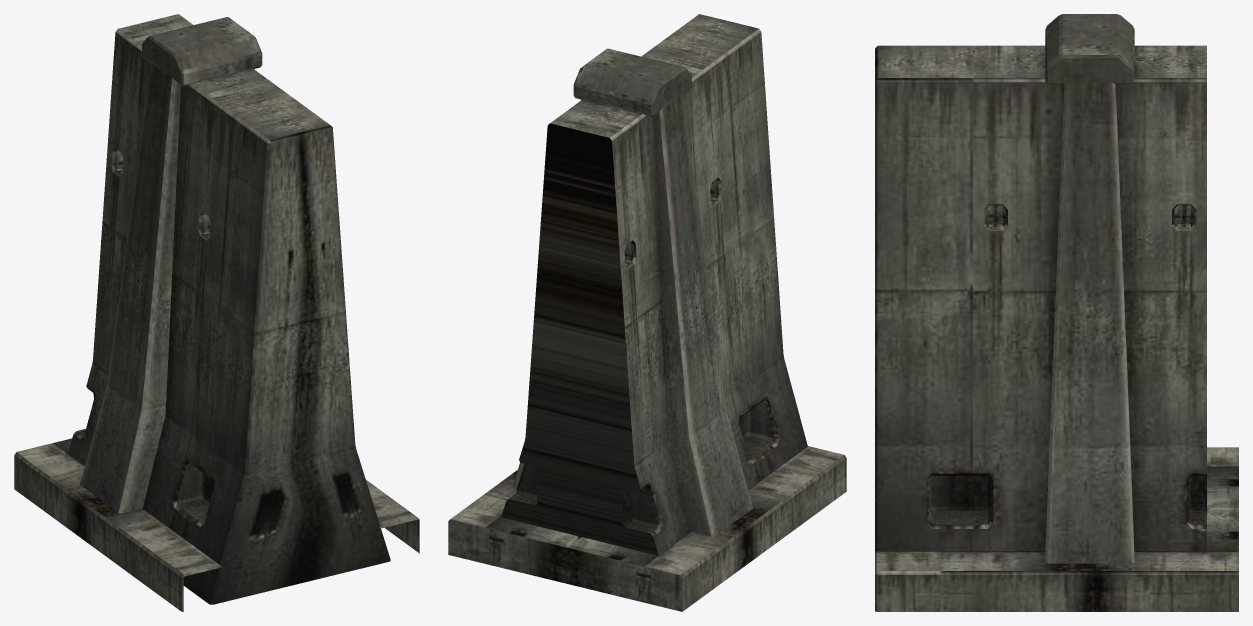
Rendered from stone-wall-s.glb.
3 views of the same model, side by side, from view 1: azimuth 30°, elevation 25°; view 2: azimuth 150°, elevation 25°; view 3: azimuth 270°, elevation 25° (orthographic). The views are drawn at different scales.
Visible parts, largest first — view 1: body; view 2: body; view 3: body.
Part boxes in pixels (x1,y1,x2,y2): body: (14, 14, 419, 611); body: (448, 14, 846, 611); body: (875, 14, 1238, 611).
Size of the model in its own units: 0.6932 by 1.32 by 0.8466.
Materials: 1 (1 with a texture image).
